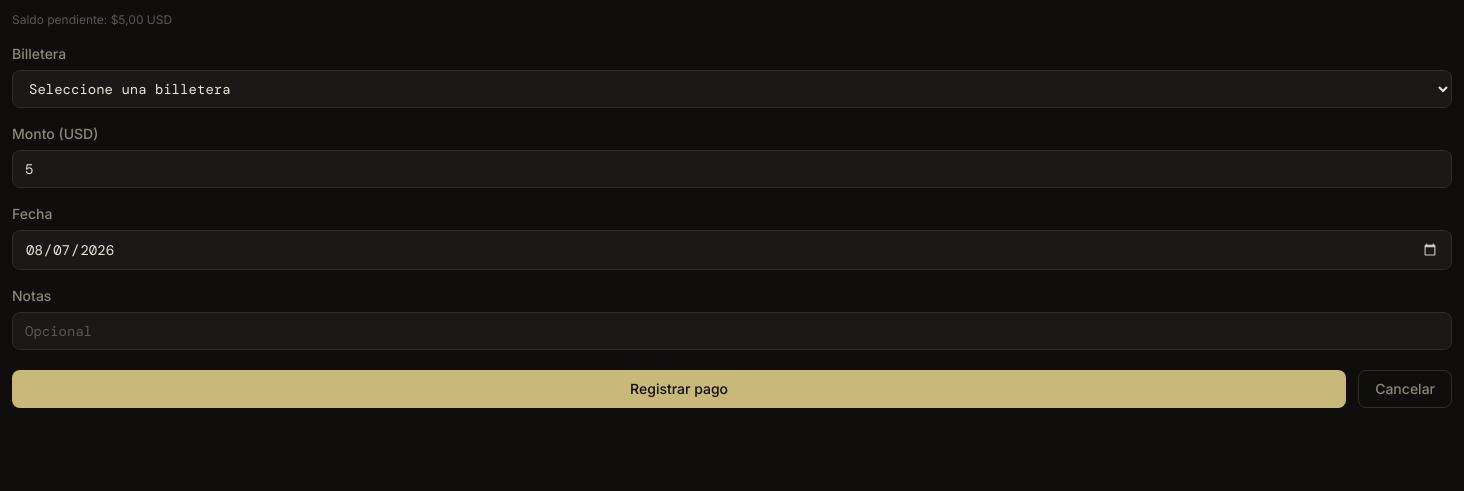
Scenario: PersonalDebtPaymentForm — indexed debt › shows a validation error when the converted amount exceeds outstanding
The width and height of the screenshot is (1464, 491).
Select "Efectivo Bs" in the dropdown labelled "Billetera" at (732, 89), box [12,70,1452,108]
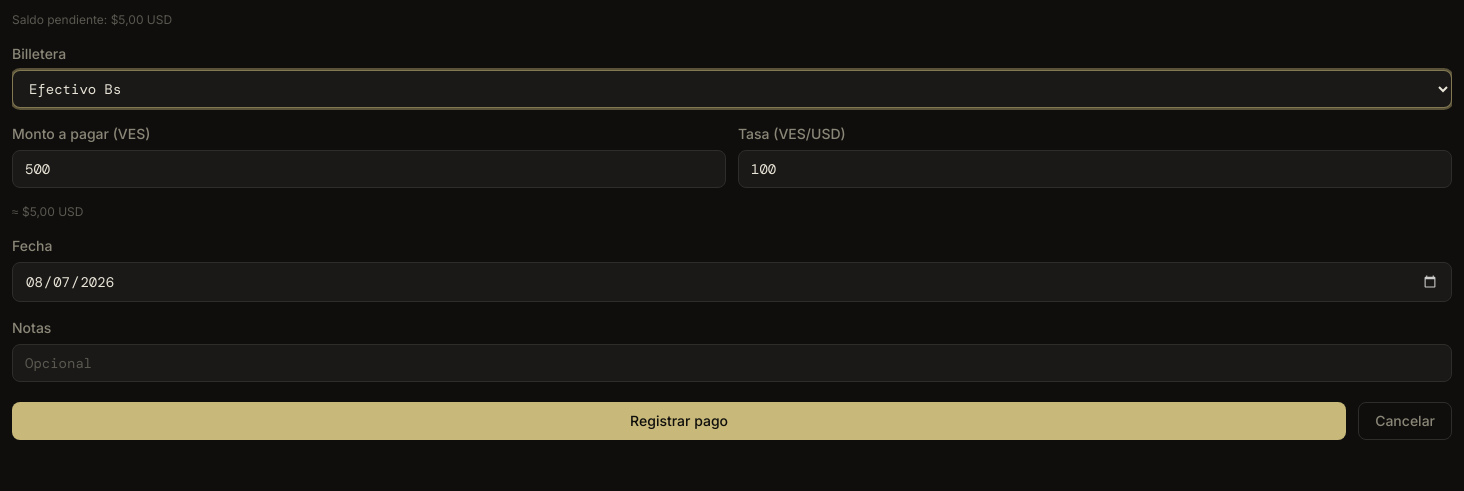
expect the number field labelled "Tasa (VES/USD)" holds "100": met, box [738,150,1452,188]
Replace the text in the number field labelled "Monto a pagar (VES)" with "1000" at (369, 169), box [12,150,726,188]
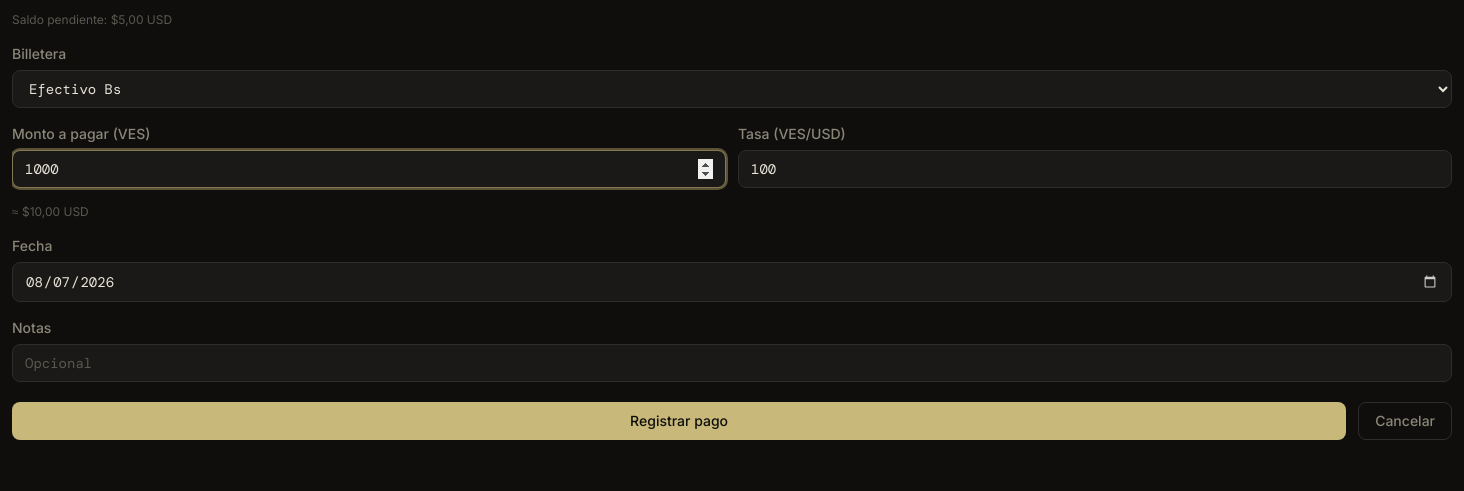
Click the button "Registrar pago" at (679, 421), box [12,402,1346,440]
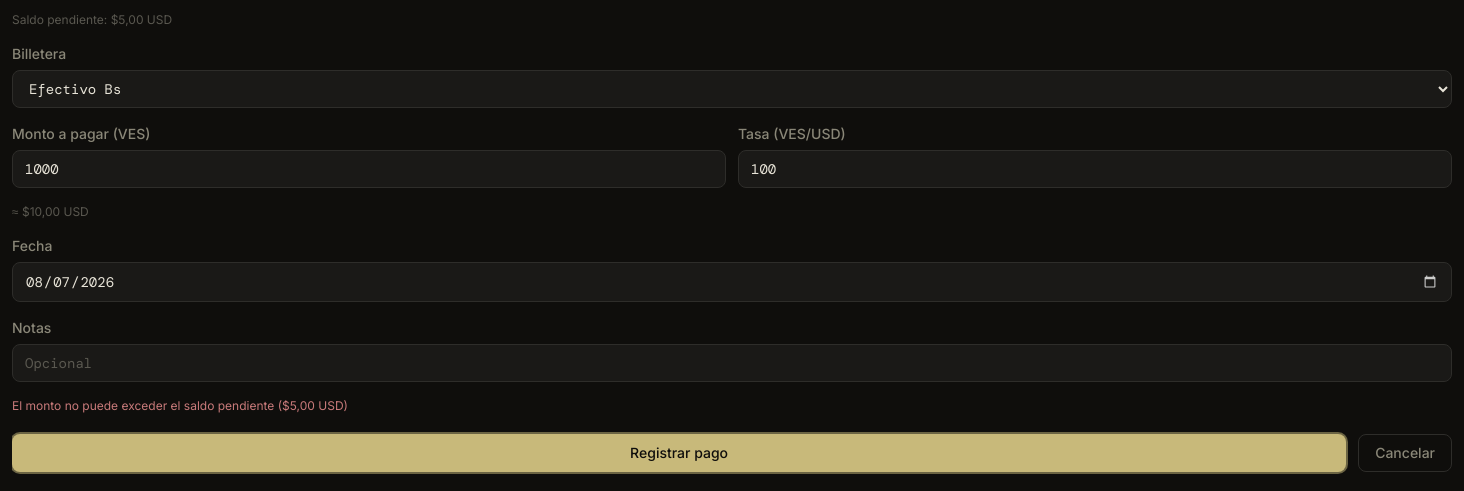
expect the text "El monto no puede exceder el saldo pendiente ($5,00 USD)" is shown: met, box [12,398,348,413]
